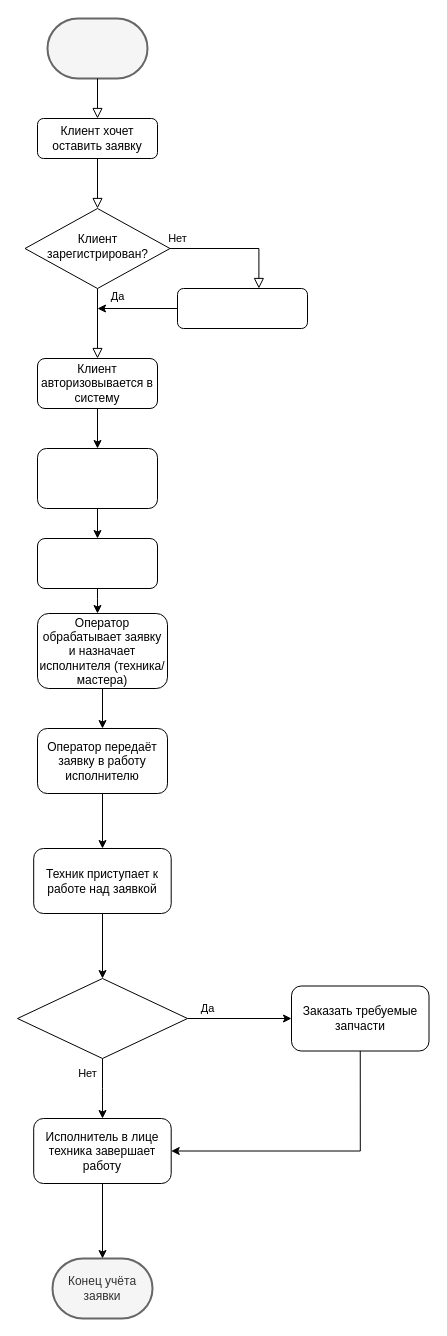
Some shapes in this 447 by 1336 pixel diagram are drawn without their labels. The centre of each missing label's shape, as x and y in pixels:
"Администратор организовыввает регистрацию" belongs at [242,308].
"Клиент создаёт новую заявку, описывая проблему (+ модель, данные)" belongs at [97,478].
"Начало учёта заявки" belongs at [97,48].
"Оператор регистрирует заявку" belongs at [97,563].
"Требуются дополнительные запчасти?" belongs at [102,1018].
